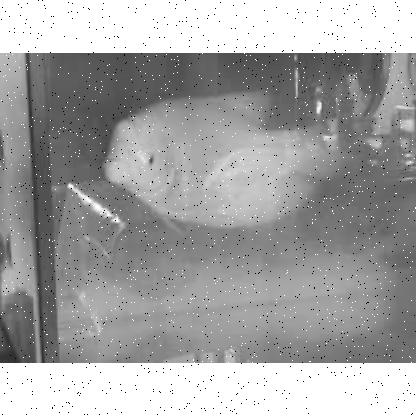gurame: (106, 94, 328, 226)
